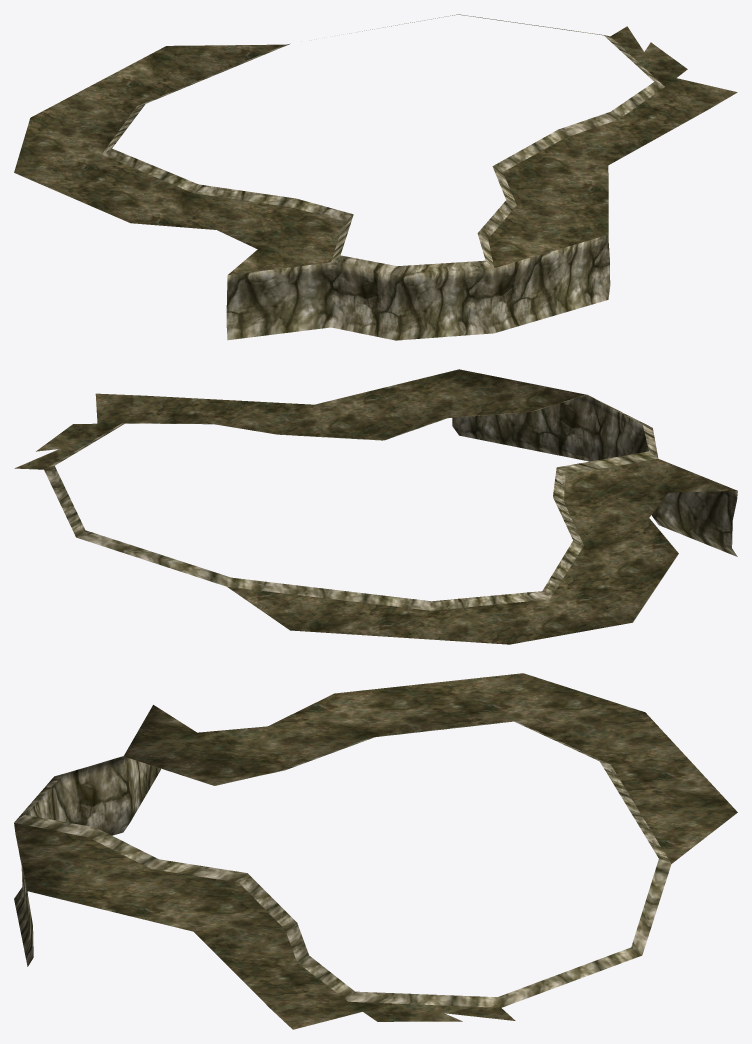
The model's file is CB_NEWPLAYSURFACE_CB_PLAYSURFACE132.fbx.
3 renders of one model, top to bottom at view 1: azimuth 30°, elevation 25°; view 2: azimuth 150°, elevation 25°; view 3: azimuth 270°, elevation 25°, orthographic. The views are drawn at different scales.
Visible parts, largest first — view 1: CB_NEWPLAYSURFACE_CB_PLAYSURFACE132; view 2: CB_NEWPLAYSURFACE_CB_PLAYSURFACE132; view 3: CB_NEWPLAYSURFACE_CB_PLAYSURFACE132.
Boxes of the visible parts, x1,y1,x2,y2 form: CB_NEWPLAYSURFACE_CB_PLAYSURFACE132: (14,14,737,340); CB_NEWPLAYSURFACE_CB_PLAYSURFACE132: (14,369,737,644); CB_NEWPLAYSURFACE_CB_PLAYSURFACE132: (14,673,737,1029).
Bounding box in the file's own units: 402182 × 42968 × 345052.
Materials: 2 (2 with a texture image).
